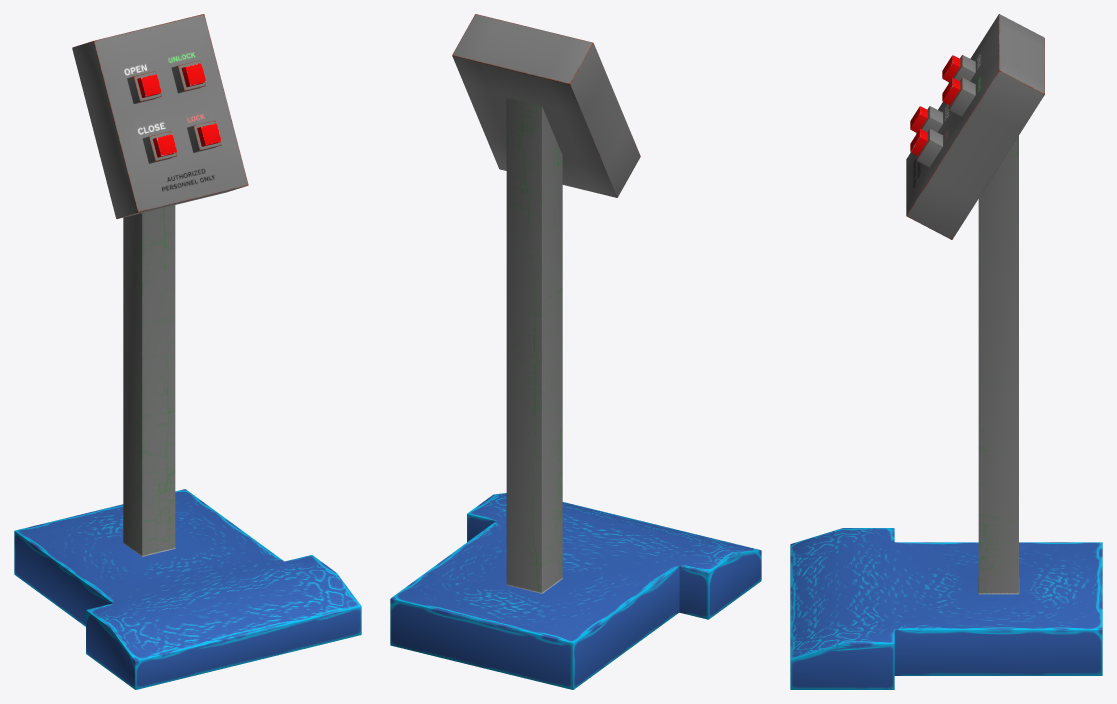
Rendered from panel.glb.
3 renders of one model, left to right at view 1: azimuth 30°, elevation 25°; view 2: azimuth 150°, elevation 25°; view 3: azimuth 270°, elevation 25°, orthographic. The views are drawn at different scales.
Parts seen in each view (by area): view 1: Stand, Button Box; view 2: Stand, Button Box; view 3: Stand, Button Box.
Boxes of the visible parts, bbox=[...] form: Stand: bbox=[14, 205, 361, 689]; Button Box: bbox=[72, 14, 248, 218]; Stand: bbox=[390, 98, 761, 689]; Button Box: bbox=[452, 14, 640, 197]; Stand: bbox=[790, 136, 1102, 689]; Button Box: bbox=[906, 14, 1044, 239].
Bounding box in the file's own units: 0.5349 × 1.27 × 0.6087.
1 material, 1 textured.
